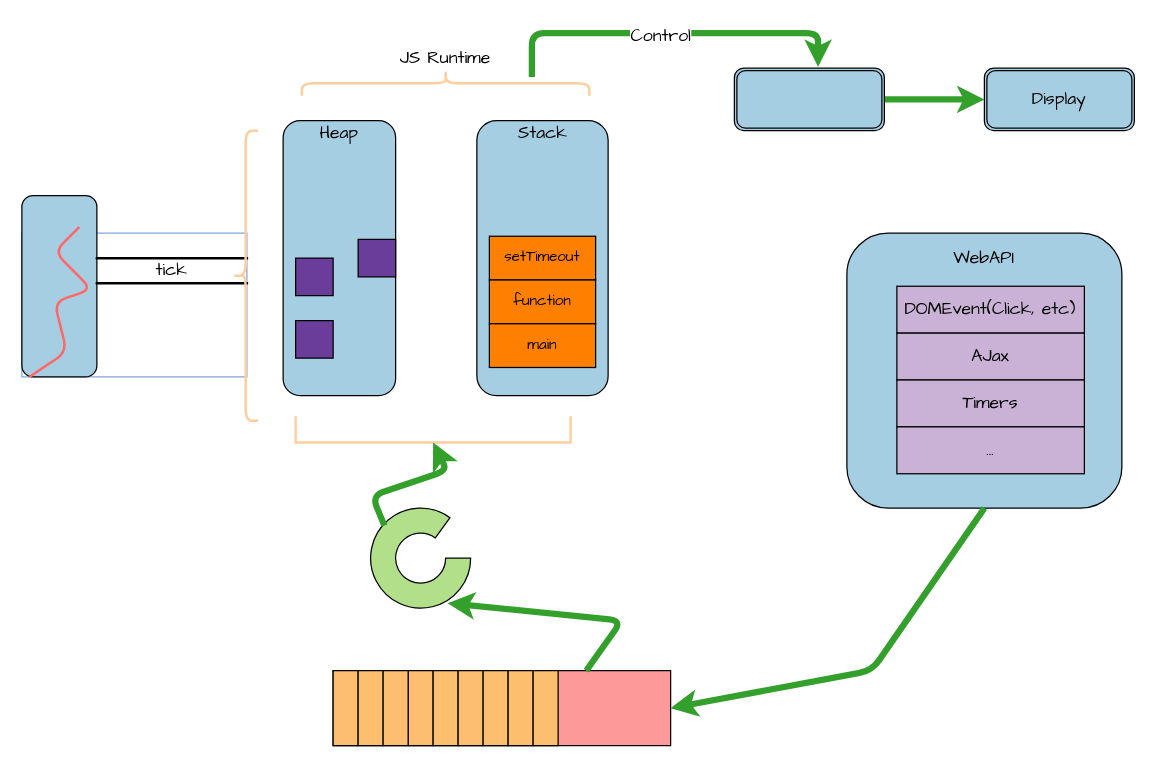
The diagram is 1156 pixels wide and 768 high, and some of its shapes have lost their labels. Here are the shapes that lost their labels. From the top down, the box of each, then its label:
(733, 67, 884, 131): DOM
(21, 194, 97, 377): 宿主Thread
(369, 507, 471, 608): EventLoop
